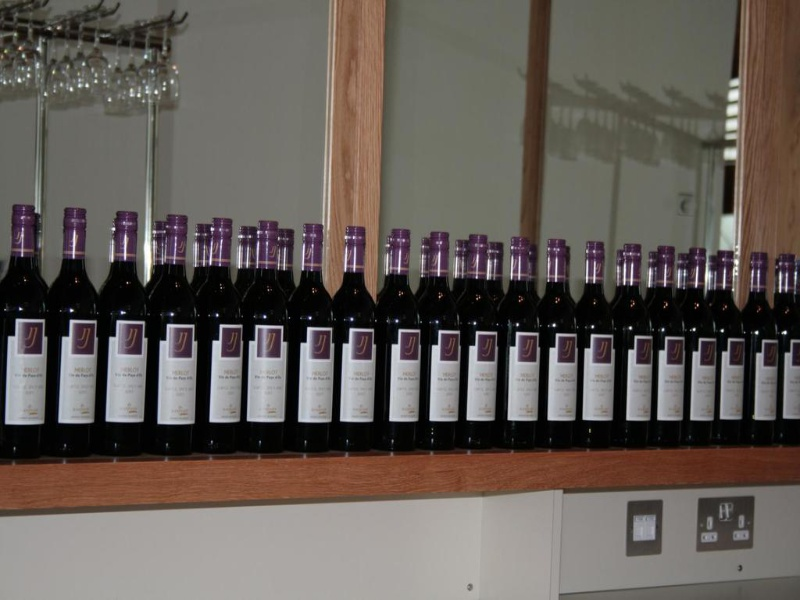knife: (238, 263, 717, 444)
